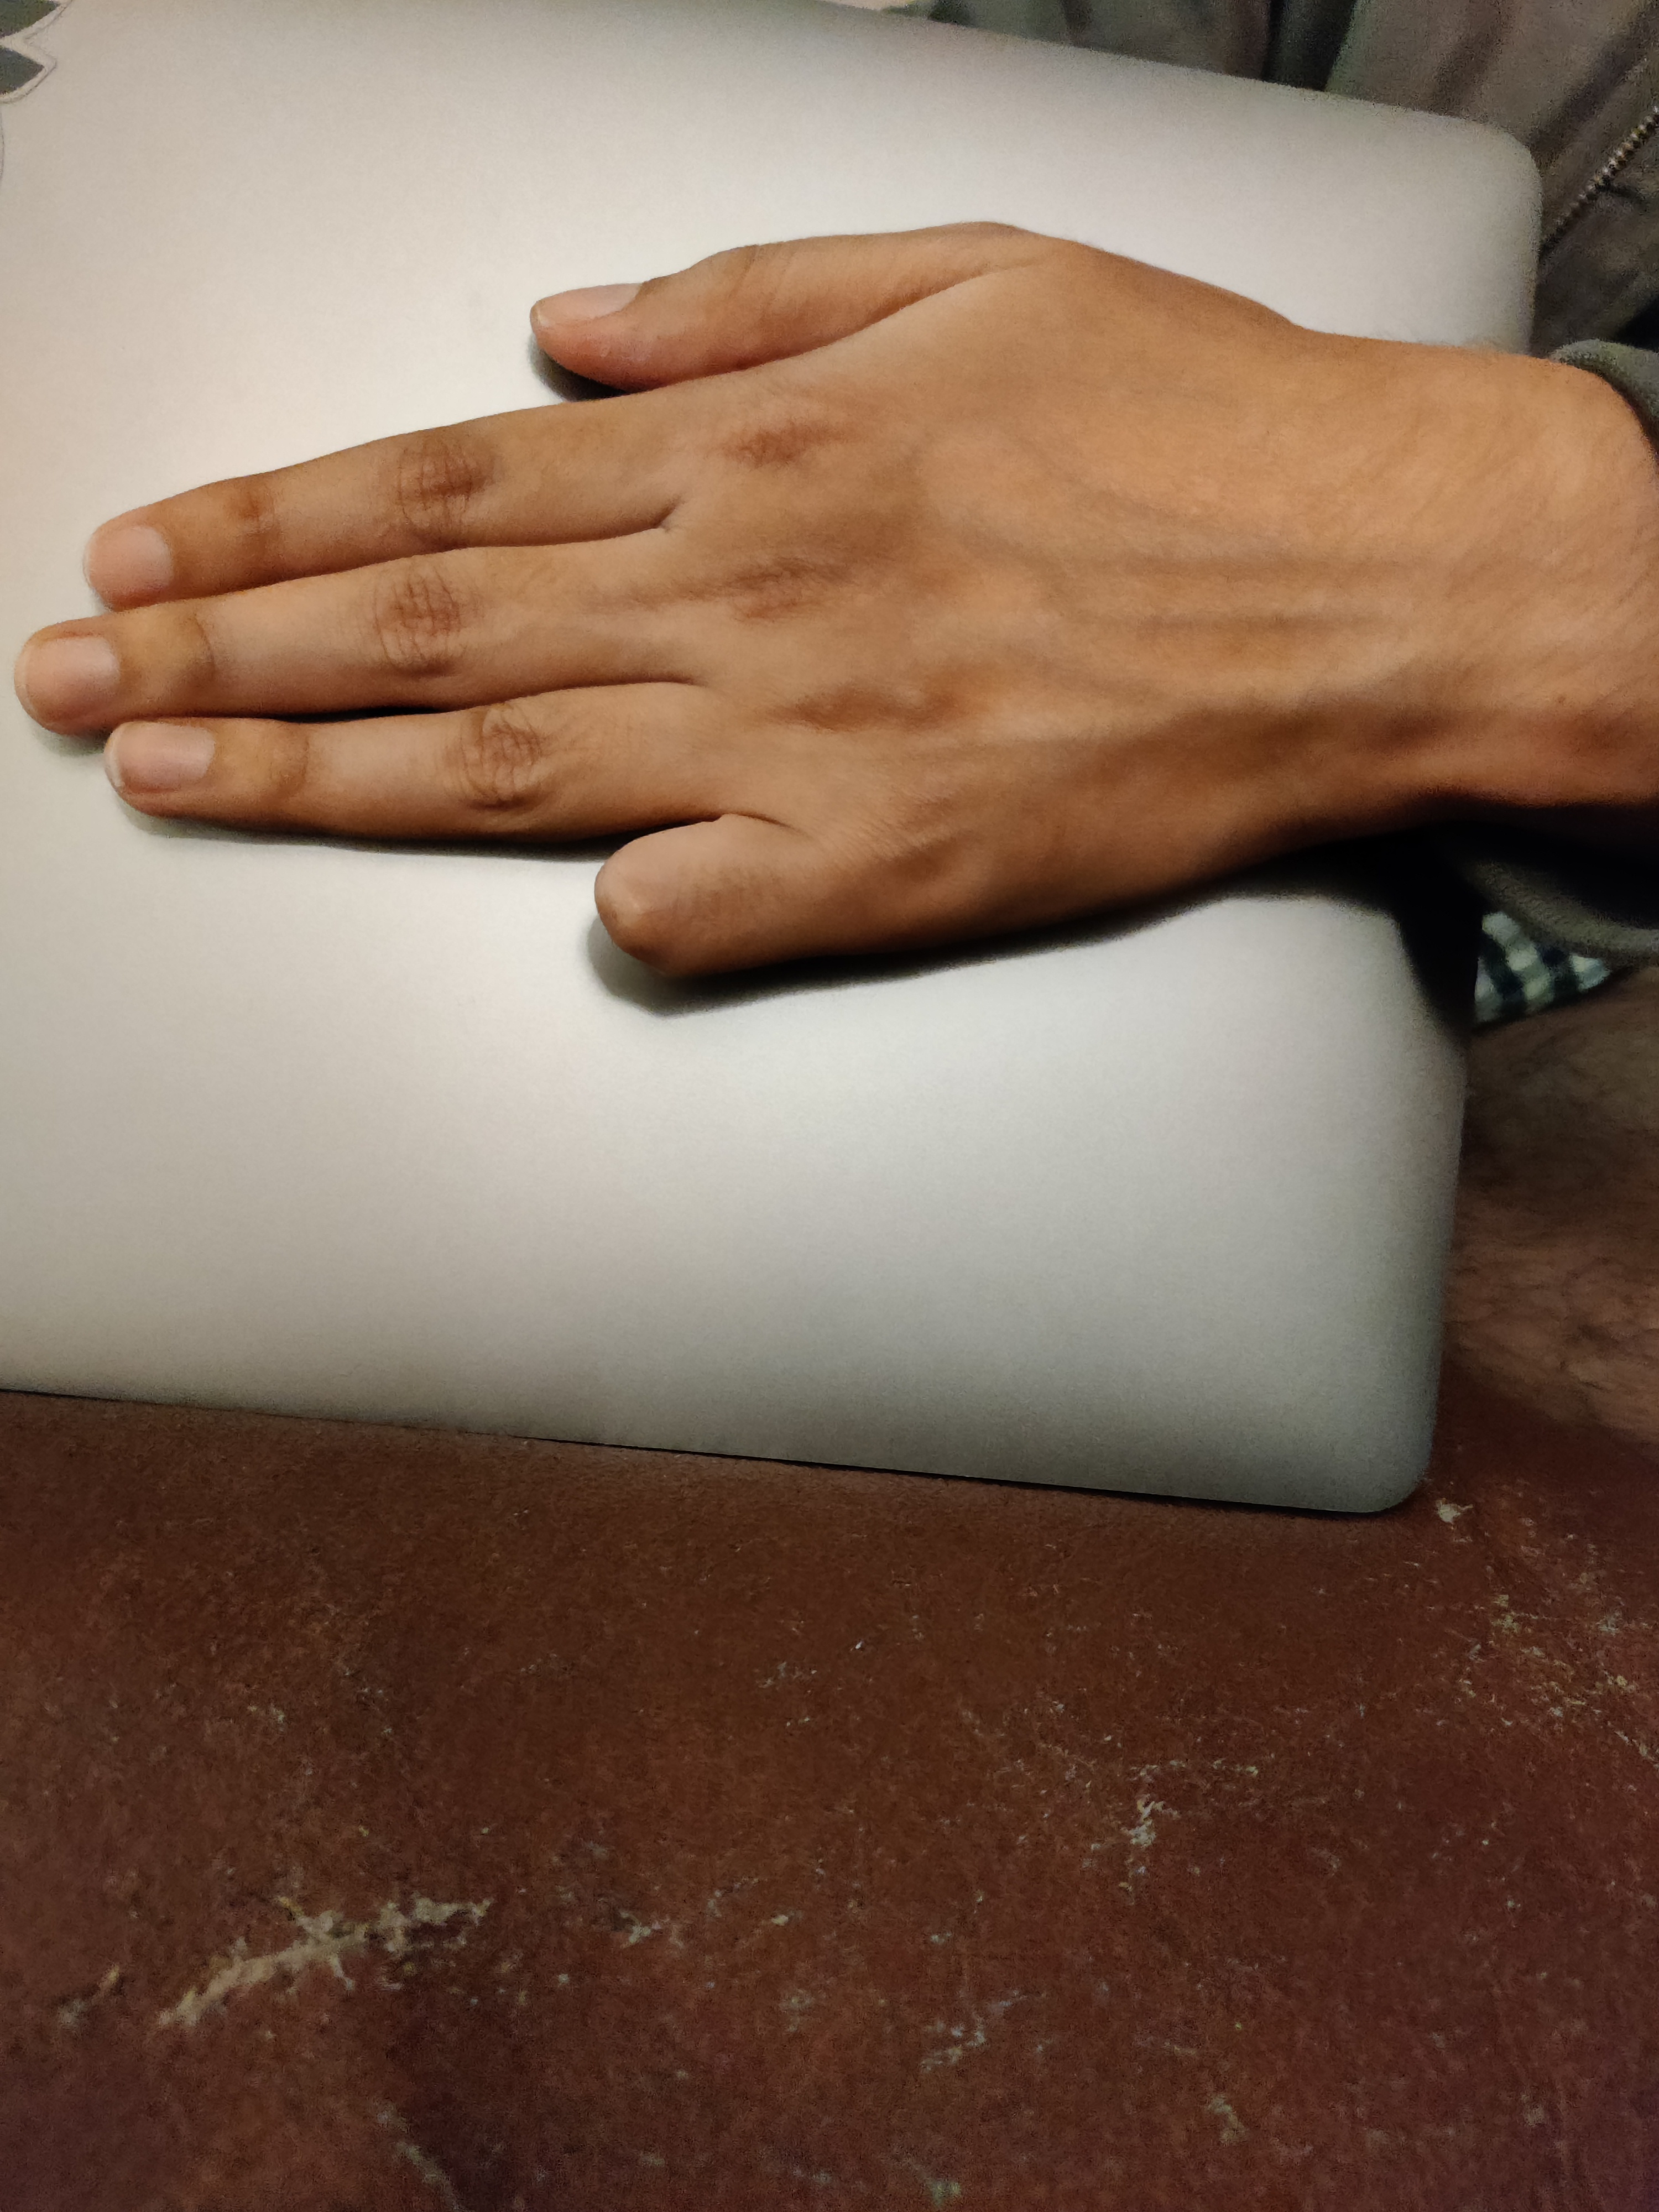right: (12, 120, 1614, 1299)
